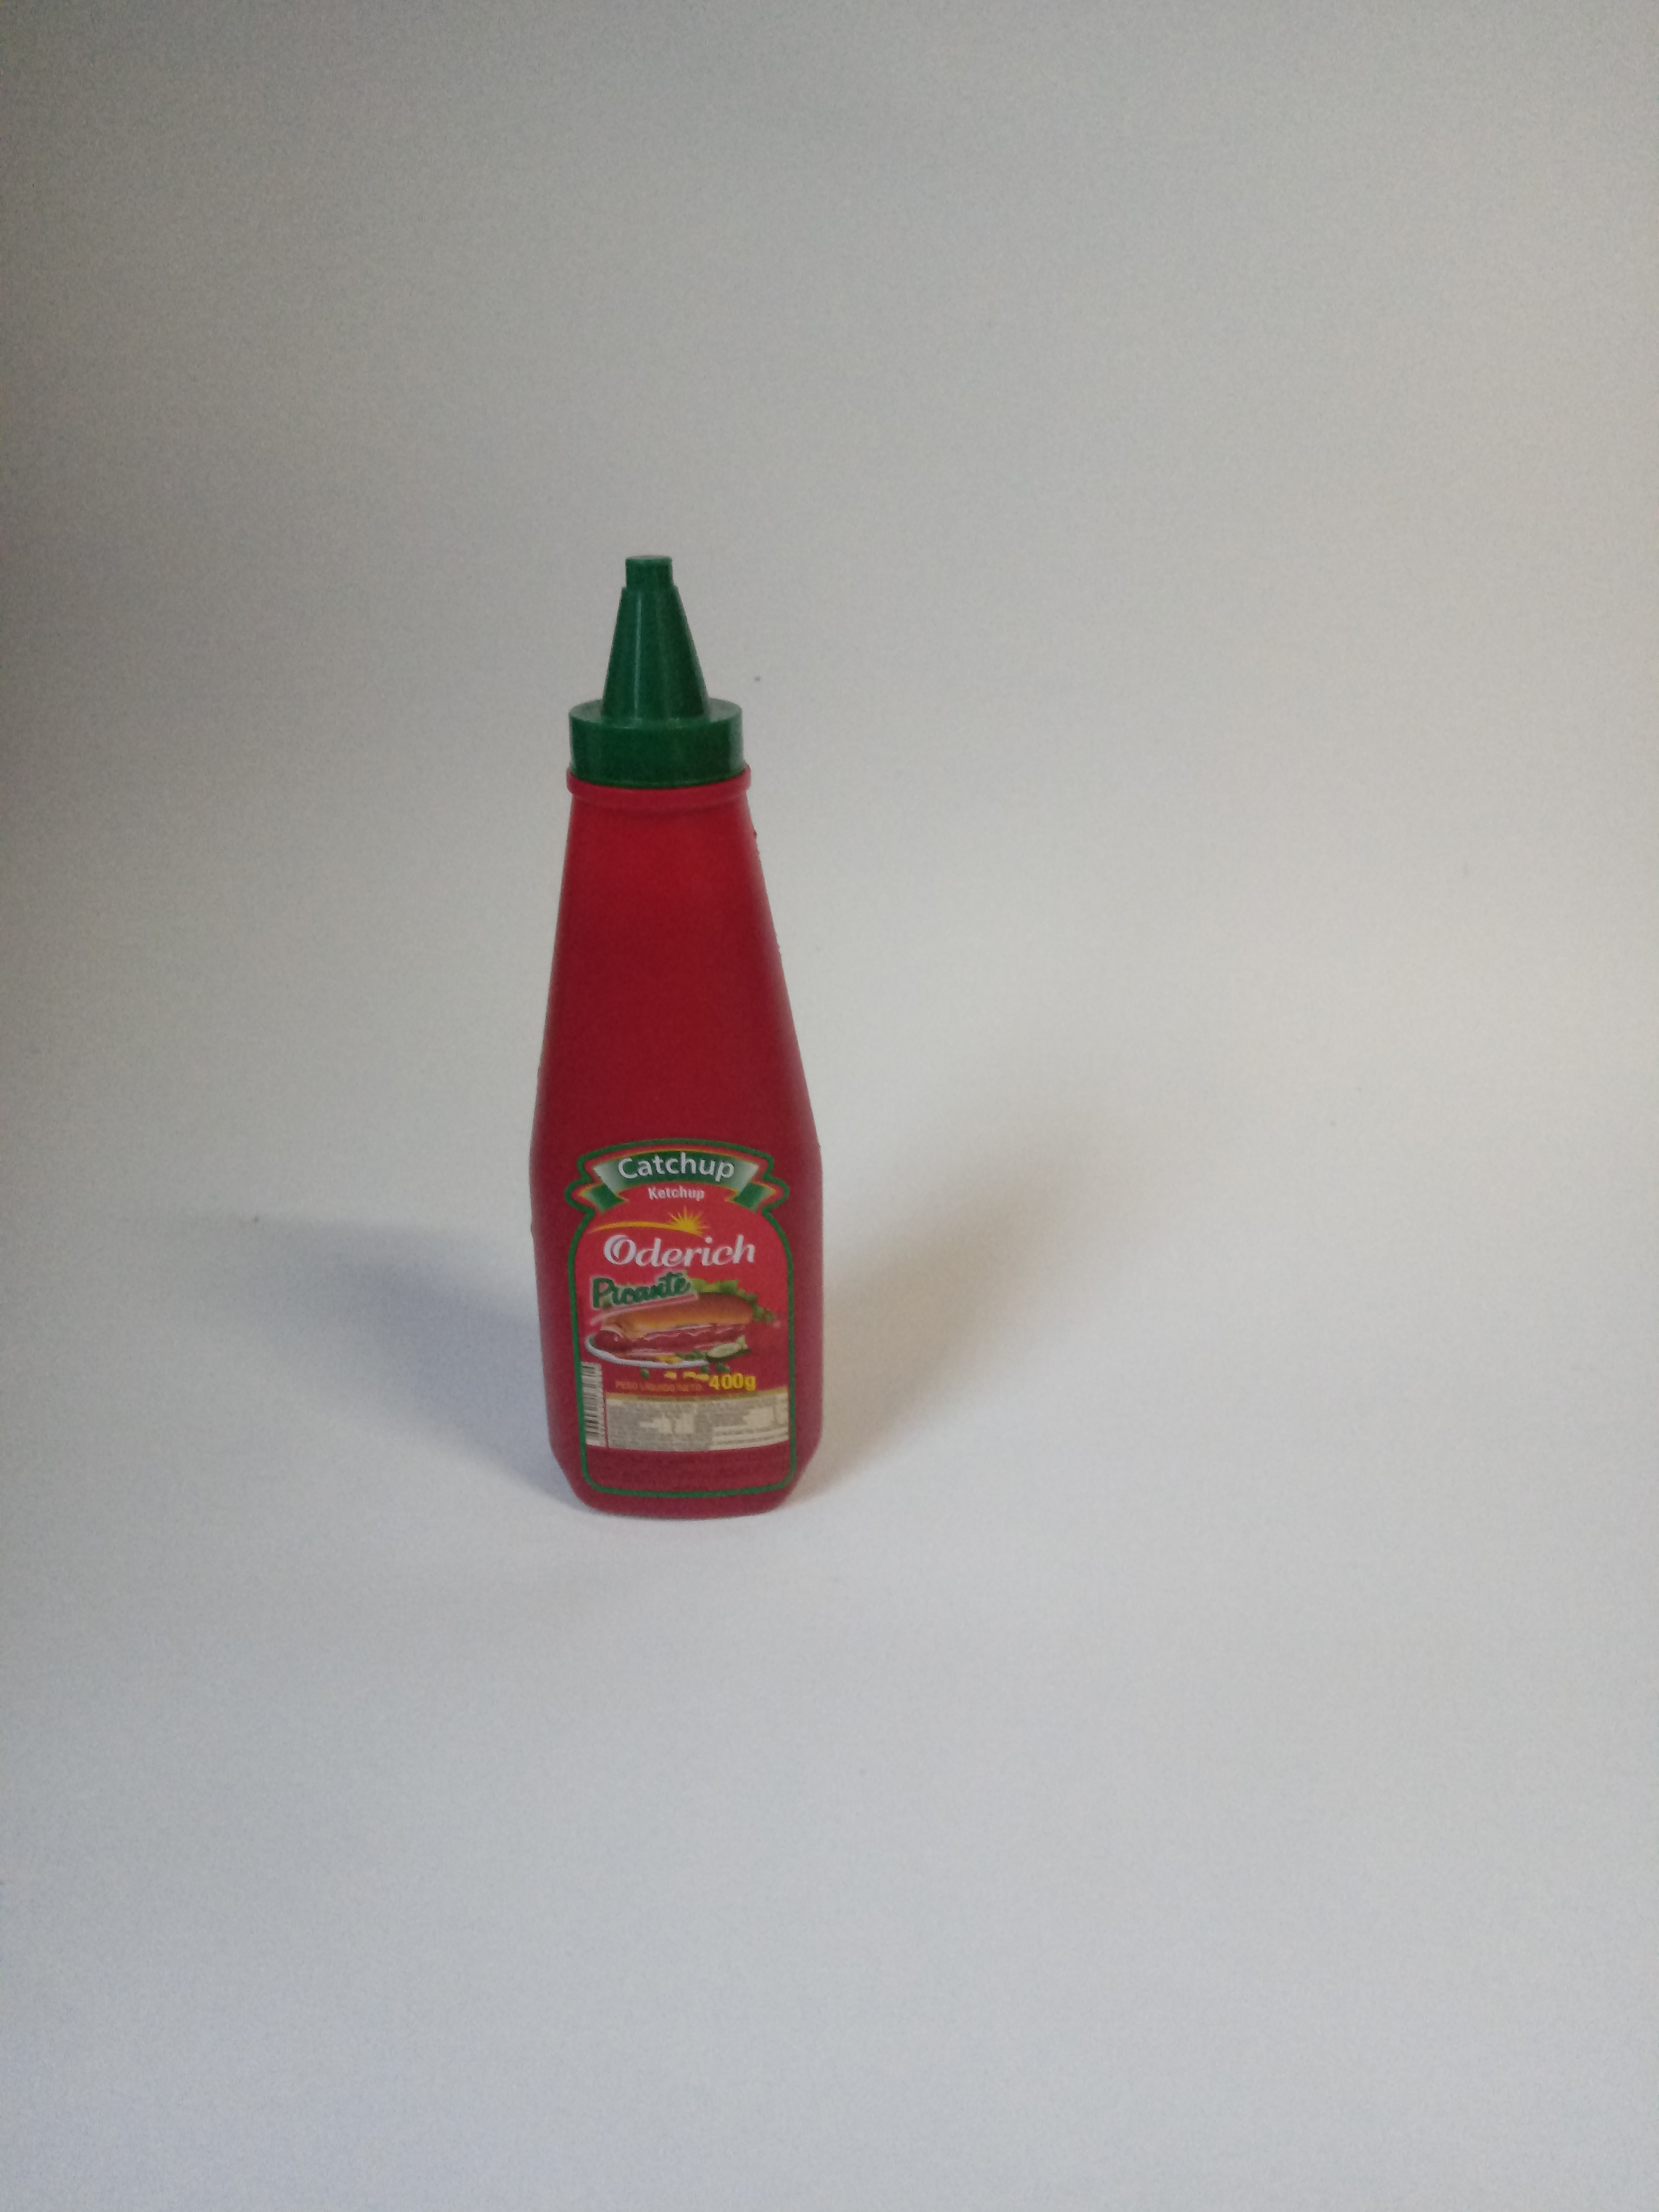catchup-oderich: (484, 519, 845, 1561)
